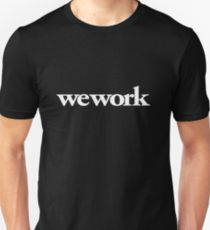wework: (54, 84, 152, 109)
